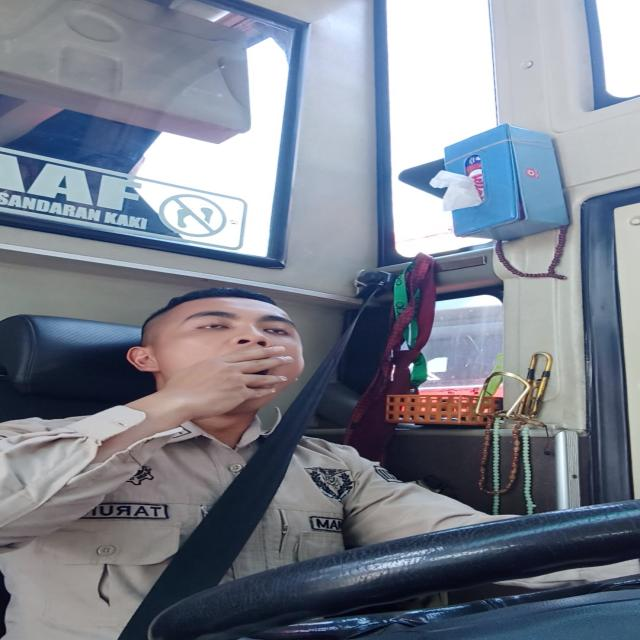3: (140, 434, 312, 563)
no-seatbelt: (167, 294, 312, 414)
